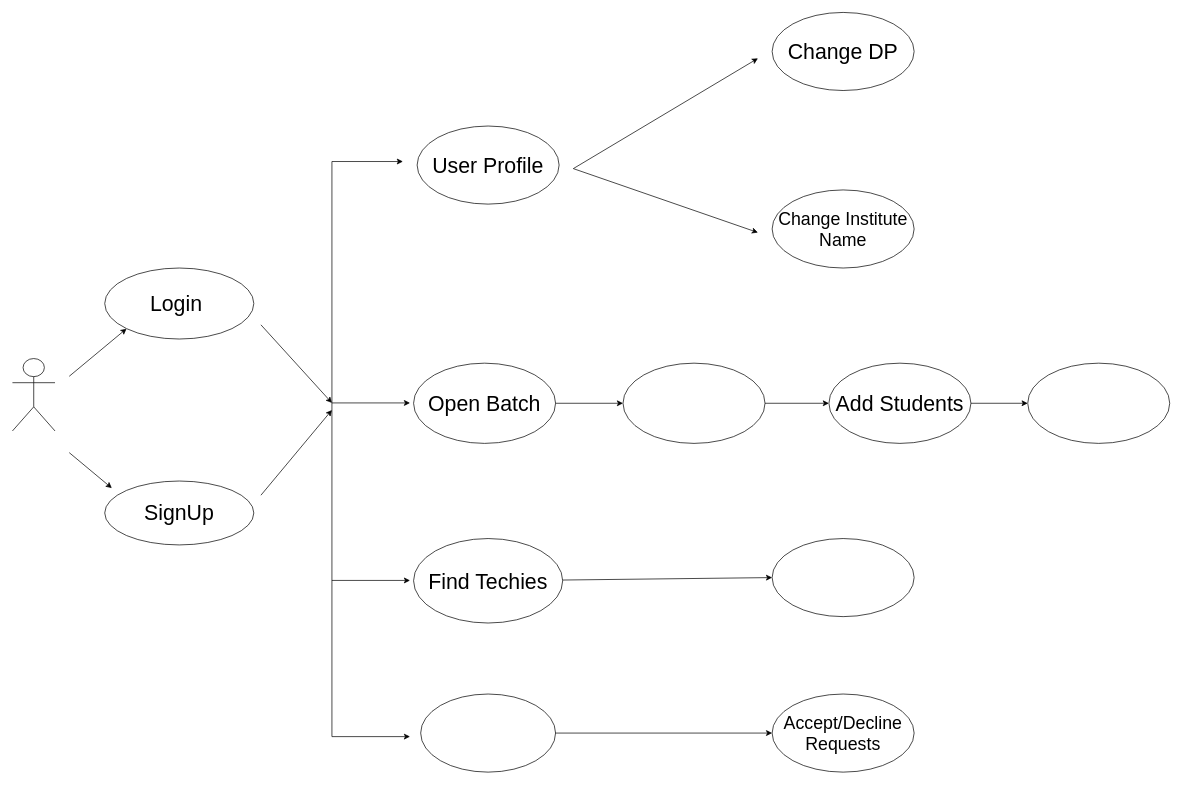
Image size: 1182x785. Some labels were removed from this diagram. Here are the shapes that lost their labels. From the top down, the box of each, then its label:
(12, 358, 55, 431): Mentor
(622, 362, 765, 443): Create Room
(1027, 362, 1170, 443): Chat
(771, 538, 914, 617): Send Requests
(420, 693, 556, 772): Requests Fragment
